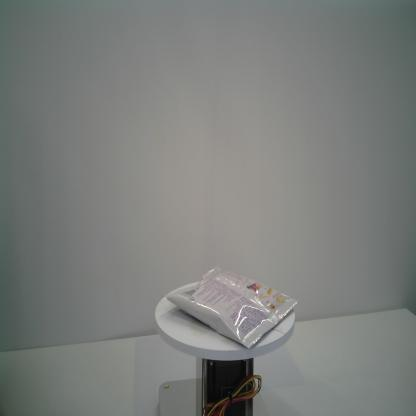Instant Drink: (164, 266, 300, 350)
